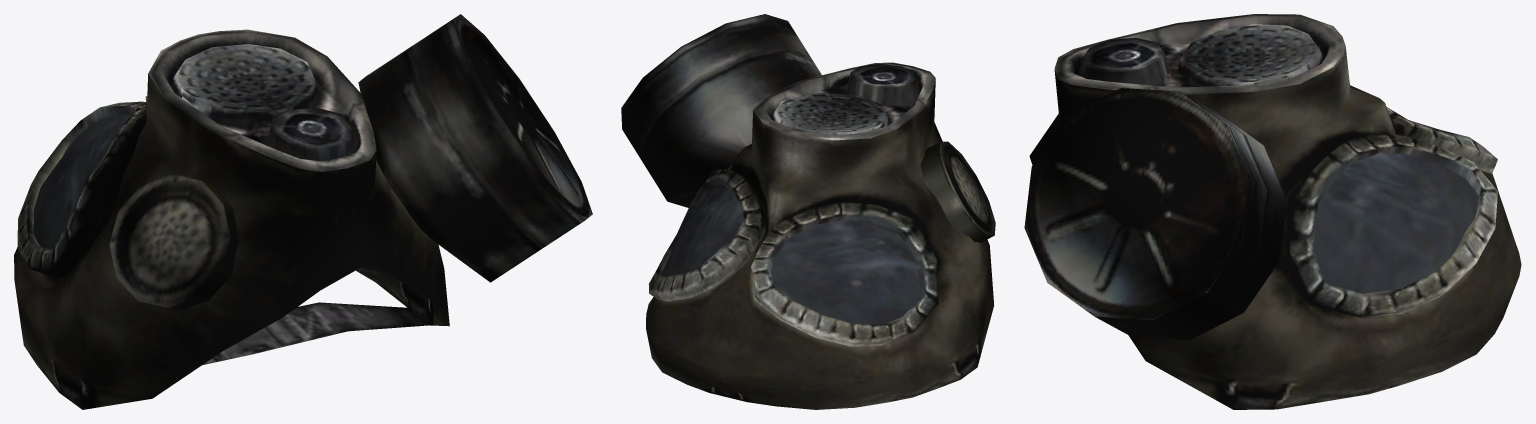
The model's file is gasmask3.fbx.
The picture shows the model from 3 angles, left to right: view 1: azimuth 30°, elevation 25°; view 2: azimuth 150°, elevation 25°; view 3: azimuth 270°, elevation 25°; orthographic projection. The views are drawn at different scales.
Visible parts, largest first — view 1: 0; view 2: 0; view 3: 0.
Boxes of the visible parts, box(x1,y1,x2,y2) form: 0: box(14, 14, 592, 409); 0: box(621, 14, 995, 409); 0: box(1024, 14, 1521, 409).
Bounding box in the file's own units: 0.2962 × 0.2011 × 0.286.
